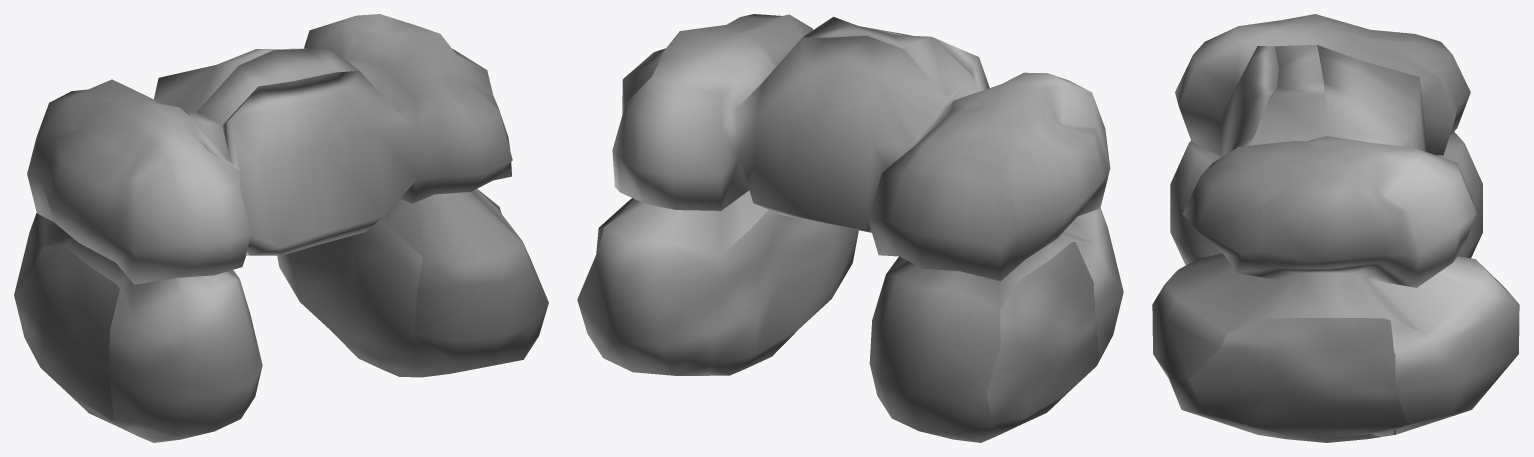
File: rock3.fbx
The picture shows the model from 3 angles, left to right: view 1: azimuth 30°, elevation 25°; view 2: azimuth 150°, elevation 25°; view 3: azimuth 270°, elevation 25°; orthographic projection. The views are drawn at different scales.
Visible parts, largest first — view 1: pasted__pCube1; view 2: pasted__pCube1; view 3: pasted__pCube1.
Part boxes in pixels (<box>): pasted__pCube1: <box>14,14,548,442</box>; pasted__pCube1: <box>577,14,1123,442</box>; pasted__pCube1: <box>1152,14,1519,442</box>.
Bounding box in the file's own units: 19.35 × 14.06 × 14.95.
